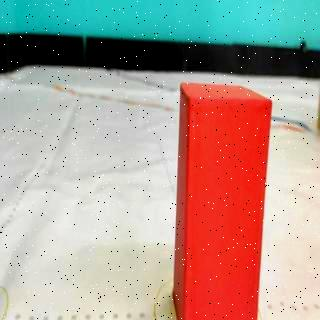redbox: (170, 82, 272, 320)
